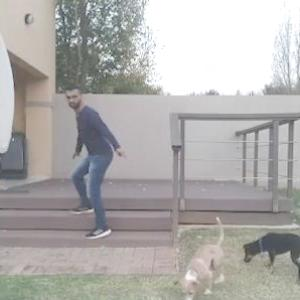land: (60, 80, 130, 235)
